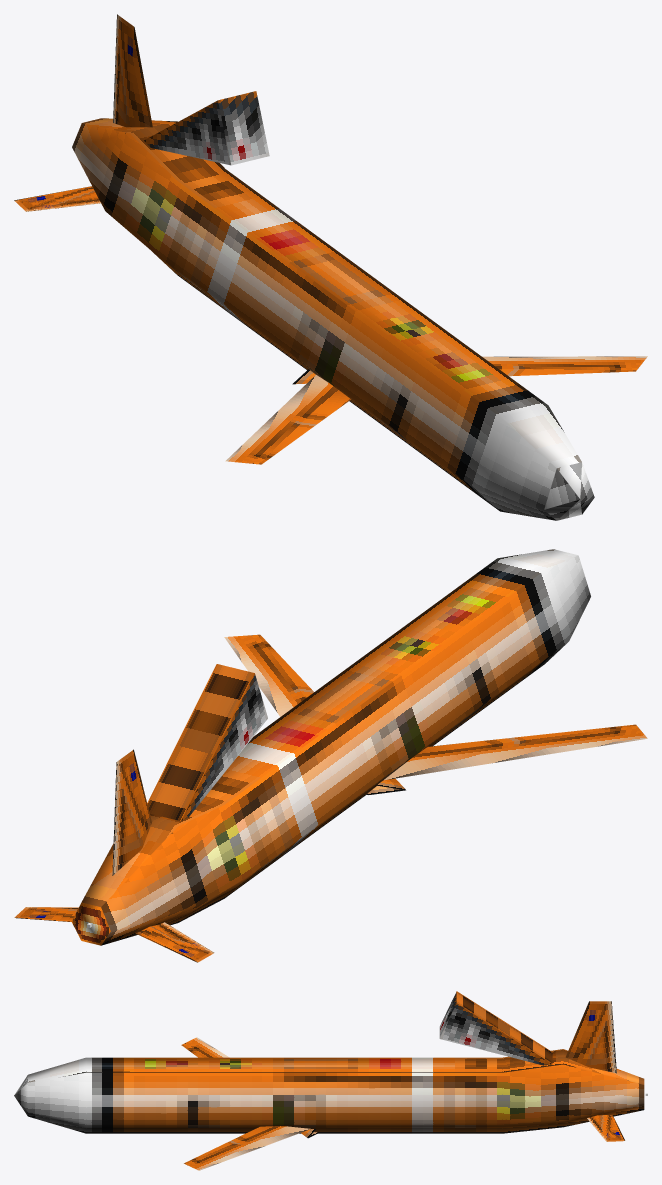
Rendered from mis13_static.obj.
The picture shows the model from 3 angles, top to bottom: view 1: azimuth 30°, elevation 25°; view 2: azimuth 150°, elevation 25°; view 3: azimuth 270°, elevation 25°; orthographic projection. The views are drawn at different scales.
Parts seen in each view (by area): view 1: frm-mfuselg, frm-tafuselg, frm-lwingz1, frm-tafinz, frm-lwingz, frm-alfinz1; view 2: frm-mfuselg, frm-tafuselg, frm-lwingz1, frm-lwingz, frm-tafinz, frm-alfinz1, frm-alfinz; view 3: frm-mfuselg, frm-tafuselg, frm-tafinz, frm-lwingz, frm-alfinz, frm-lwingz1.
Boxes of the visible parts, left/top/right/bottom form: frm-mfuselg: left=72, top=118, right=594, bottom=520; frm-tafuselg: left=144, top=91, right=269, bottom=165; frm-lwingz1: left=225, top=375, right=350, bottom=464; frm-tafinz: left=113, top=14, right=152, bottom=127; frm-lwingz: left=292, top=356, right=647, bottom=384; frm-alfinz1: left=14, top=186, right=100, bottom=211; frm-mfuselg: left=71, top=549, right=590, bottom=945; frm-tafuselg: left=147, top=664, right=267, bottom=820; frm-lwingz1: left=384, top=724, right=647, bottom=780; frm-lwingz: left=224, top=634, right=405, bottom=794; frm-tafinz: left=112, top=749, right=151, bottom=875; frm-alfinz1: left=135, top=922, right=214, bottom=962; frm-alfinz: left=14, top=907, right=78, bottom=921; frm-mfuselg: left=14, top=1049, right=644, bottom=1133; frm-tafuselg: left=439, top=991, right=552, bottom=1065; frm-tafinz: left=565, top=1001, right=616, bottom=1073; frm-lwingz: left=184, top=1126, right=310, bottom=1170; frm-alfinz: left=587, top=1114, right=625, bottom=1141; frm-lwingz1: left=181, top=1037, right=319, bottom=1138.
Bounding box in the file's own units: 1.6 × 0.7183 × 3.2.
